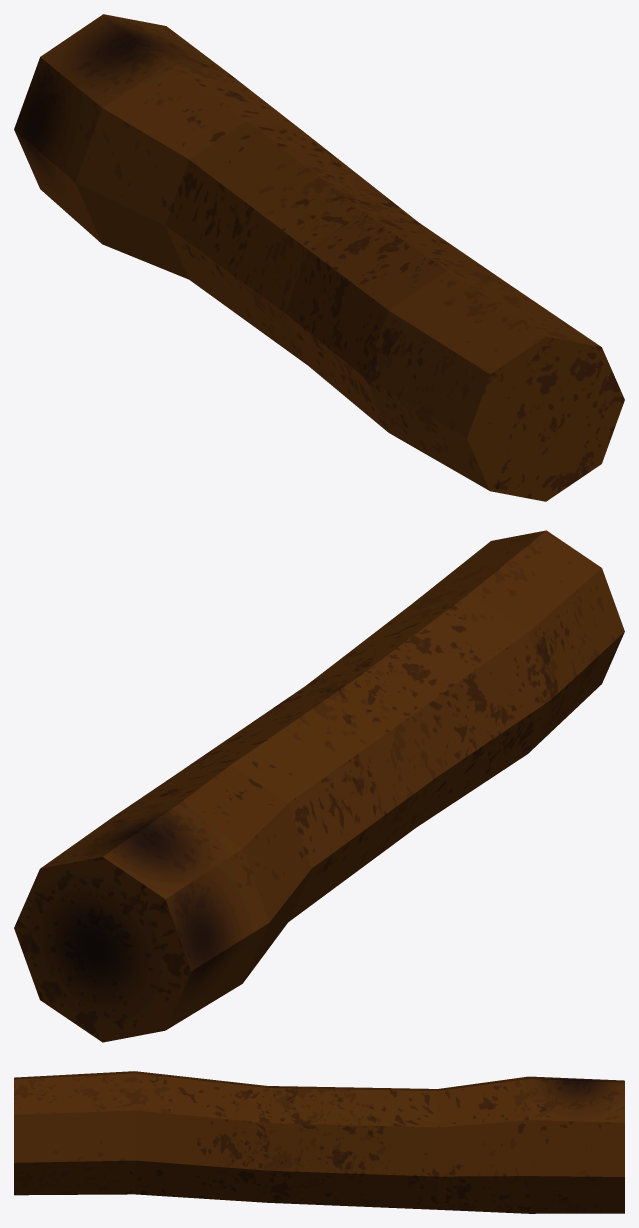
Rendered from LogFBX.fbx.
3 views of the same model, one above another, from view 1: azimuth 30°, elevation 25°; view 2: azimuth 150°, elevation 25°; view 3: azimuth 270°, elevation 25° (orthographic). The views are drawn at different scales.
Parts seen in each view (by area): view 1: Fallen_Tree; view 2: Fallen_Tree; view 3: Fallen_Tree.
Part boxes in pixels (x1=…): Fallen_Tree: x1=14, y1=14, x2=624, y2=501; Fallen_Tree: x1=14, y1=530, x2=624, y2=1042; Fallen_Tree: x1=14, y1=1071, x2=624, y2=1213.
Size of the model in its own units: 1.01 by 1.02 by 4.17.
